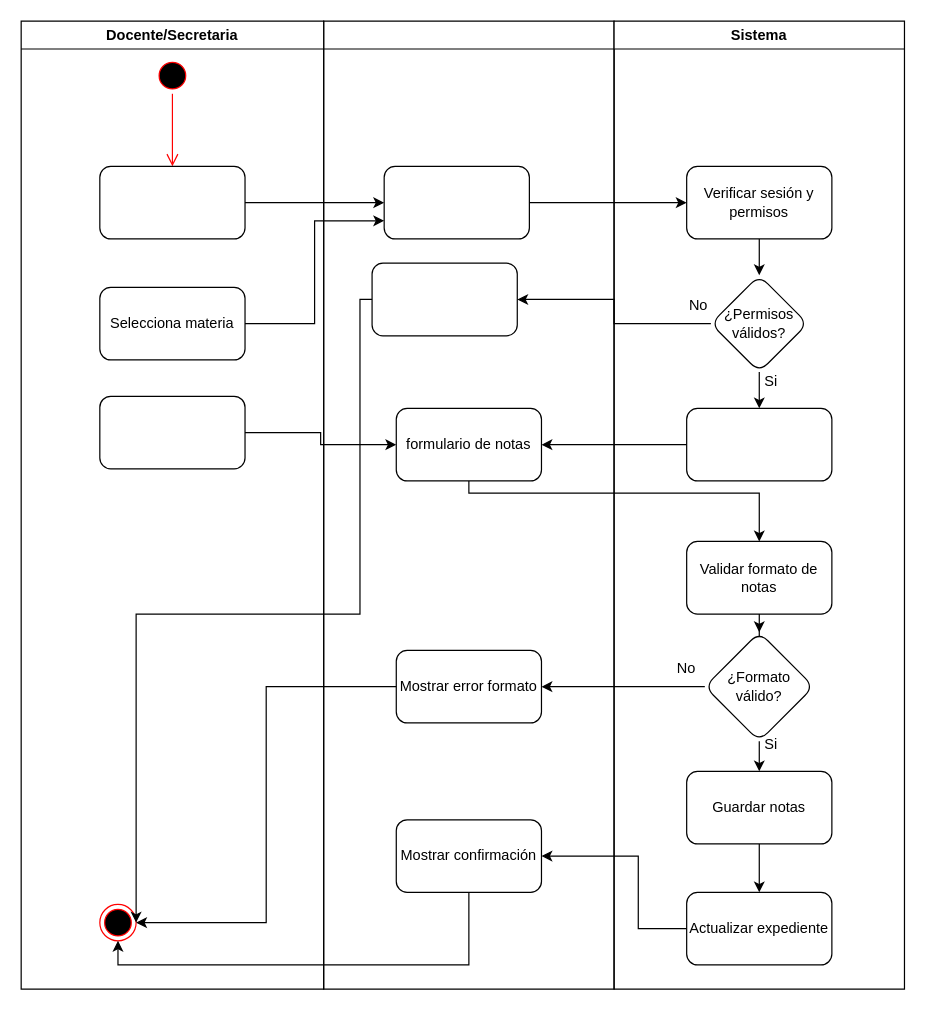
This 926x1010 diagram has some shape labels left out. Each missing label, with the box of its shape:
Accede módulo Subir Notas: (99, 165, 245, 239)
Ingresa notas: (99, 395, 245, 469)
Interfaz: (322, 20, 614, 989)
Interfaz habilita formulario: (685, 407, 832, 481)
Mostrar error: (371, 262, 517, 336)
Mostrar materias y cuatrimestres: (383, 165, 529, 239)
